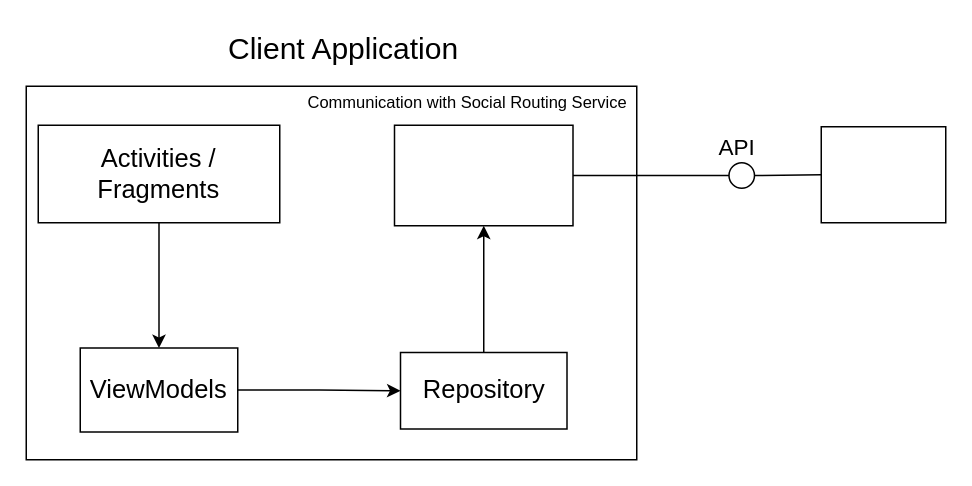
Some shapes in this 972 by 486 pixel diagram are drawn without their labels. Here are the shapes that lost their labels. From the top down, the centre of each, then its label:
At [483,175]: "Remote Data Source".
At [883,174]: "Service".
